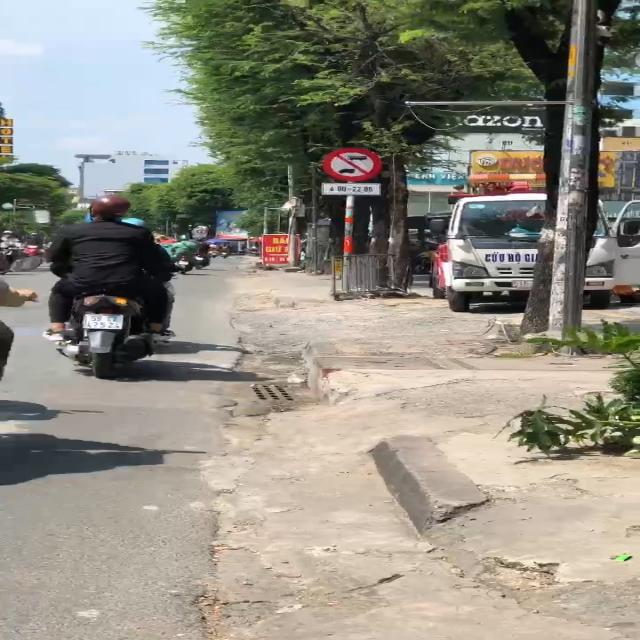Bien bao cam xe oto khach va xe oto tai: (315, 146, 382, 182)
